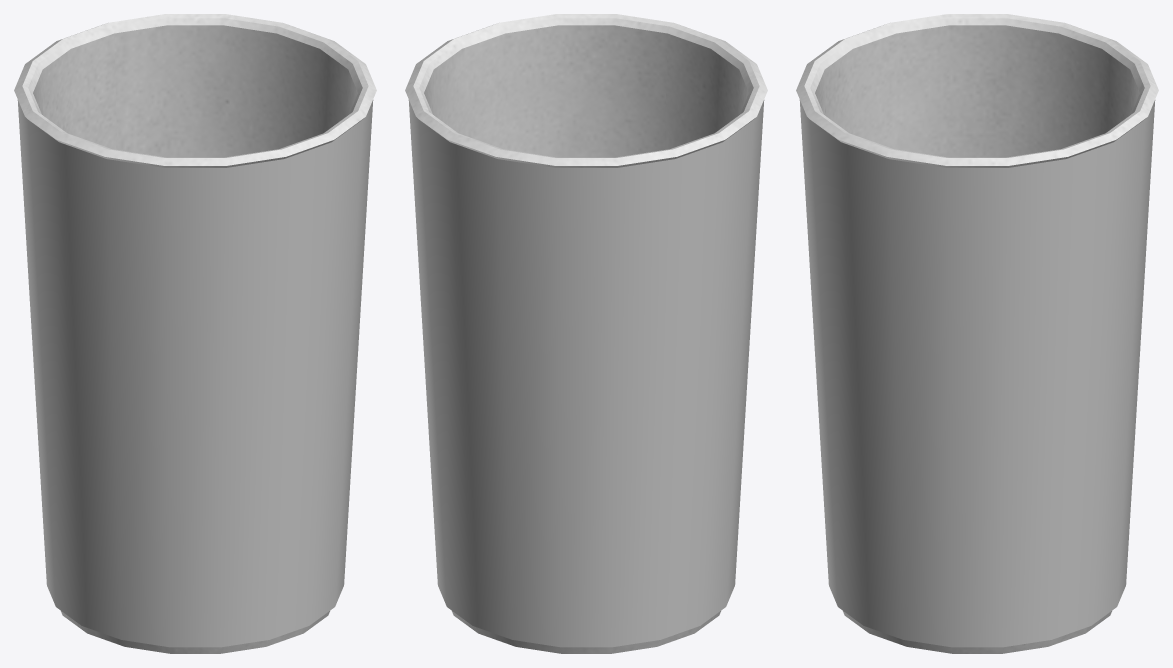
The model's file is cup.fbx.
3 renders of one model, left to right at view 1: azimuth 30°, elevation 25°; view 2: azimuth 150°, elevation 25°; view 3: azimuth 270°, elevation 25°, orthographic.
Parts seen in each view (by area): view 1: Cup; view 2: Cup; view 3: Cup.
Part boxes in pixels (x1,y1,x2,y2): Cup: [14, 14, 376, 653]; Cup: [405, 14, 767, 653]; Cup: [796, 14, 1158, 653].
Bounding box in the file's own units: 25.85 × 40.62 × 26.24.
